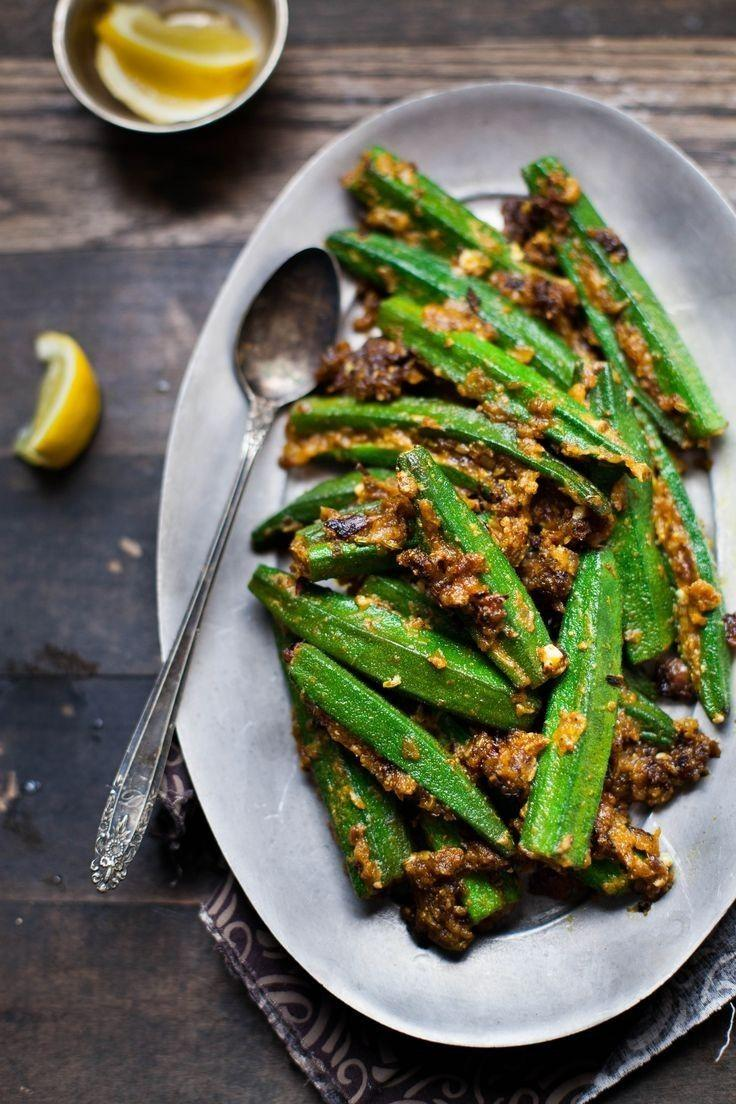bhindi: (337, 151, 696, 912)
